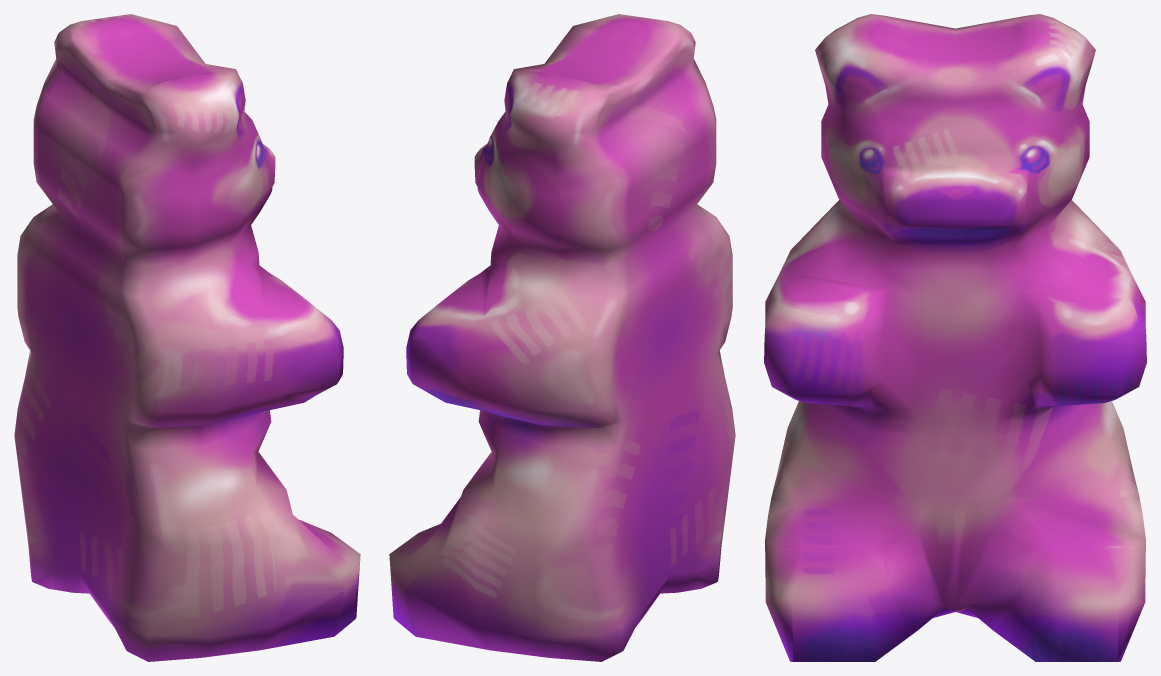
File: GummyBear(3).fbx
3 renders of one model, left to right at view 1: azimuth 30°, elevation 25°; view 2: azimuth 150°, elevation 25°; view 3: azimuth 270°, elevation 25°, orthographic. The views are drawn at different scales.
Parts seen in each view (by area): view 1: Gummybear; view 2: Gummybear; view 3: Gummybear.
Part boxes in pixels (x1,y1,x2,y2): Gummybear: (14,14,360,661); Gummybear: (389,14,735,661); Gummybear: (764,14,1146,661).
Size of the model in its own units: 164 by 427 by 257.
Materials: 1 (1 with a texture image).
